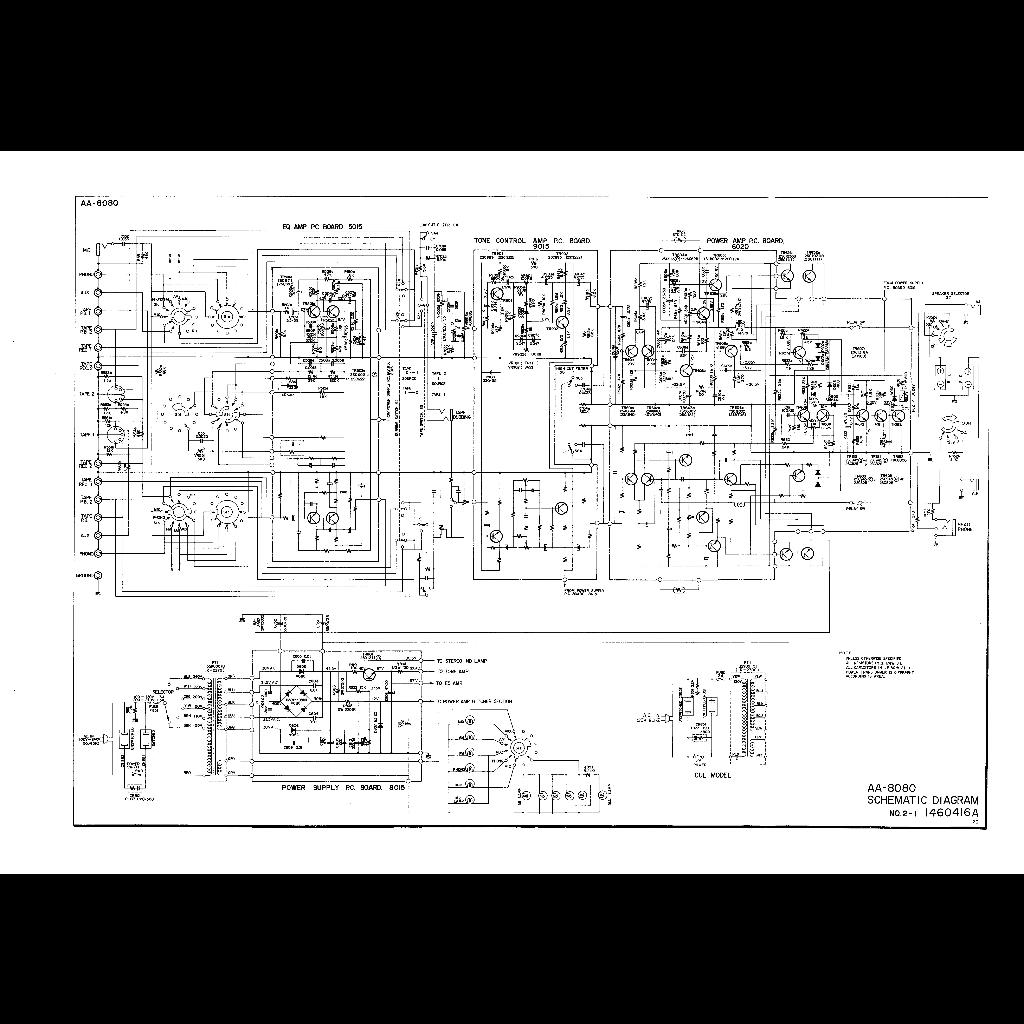Diagram: (74, 190, 992, 834)
